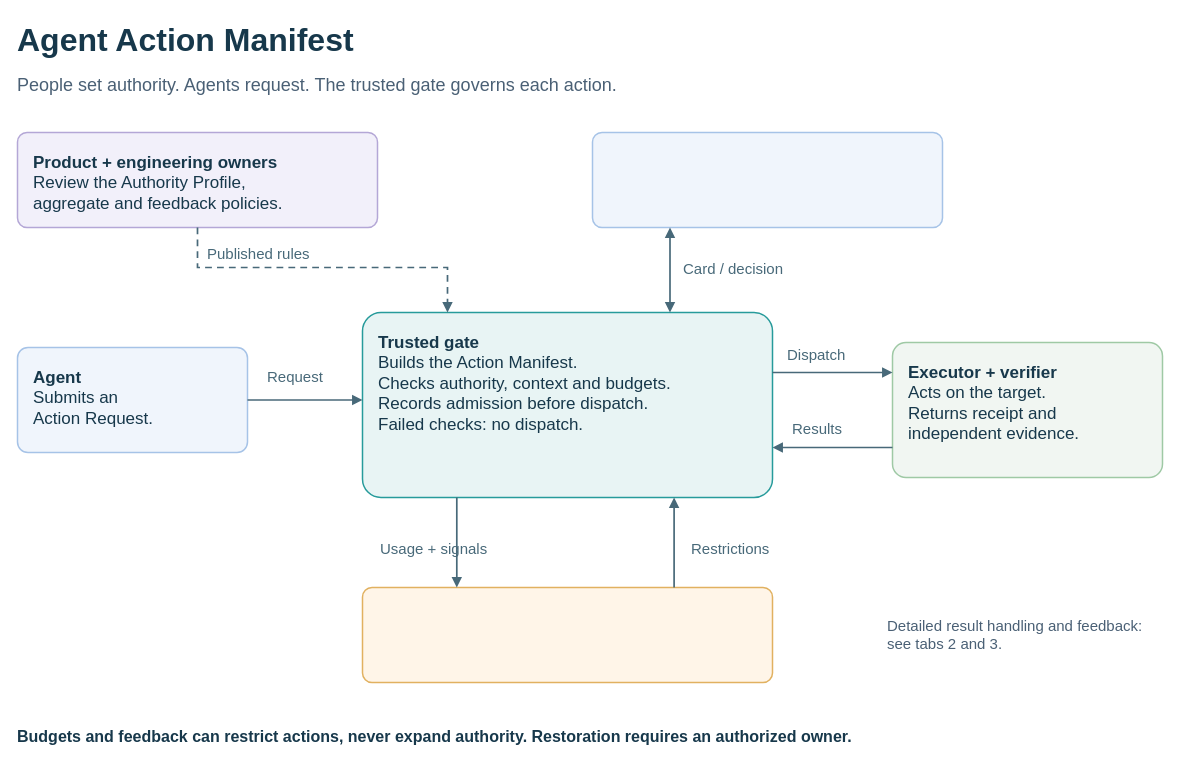
Image size: 1185x770. Some labels were removed from this diagram. Here are the shapes that lost their labels. From the top down, the centre of each, then its label:
(767,179): Human approver Reviews the Assurance Card; approves or rejects, when required.
(567,634): Aggregate + campaign controller Applies reviewed, restrictive rules.
